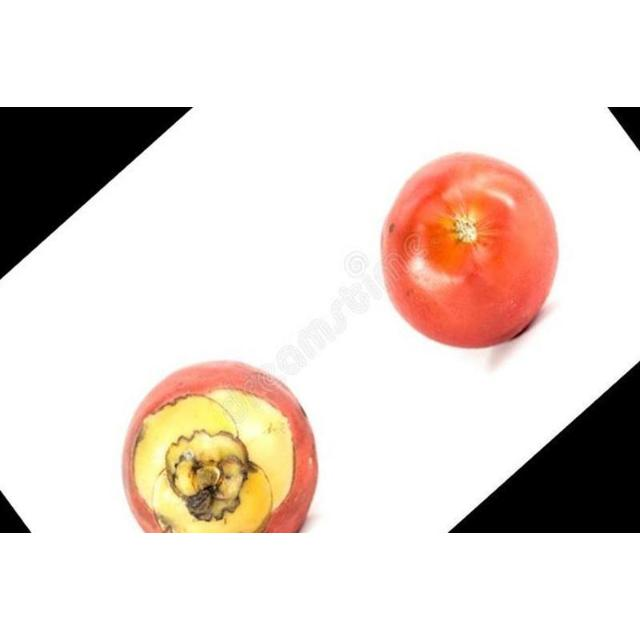good: (118, 358, 322, 533), (379, 153, 559, 351)
